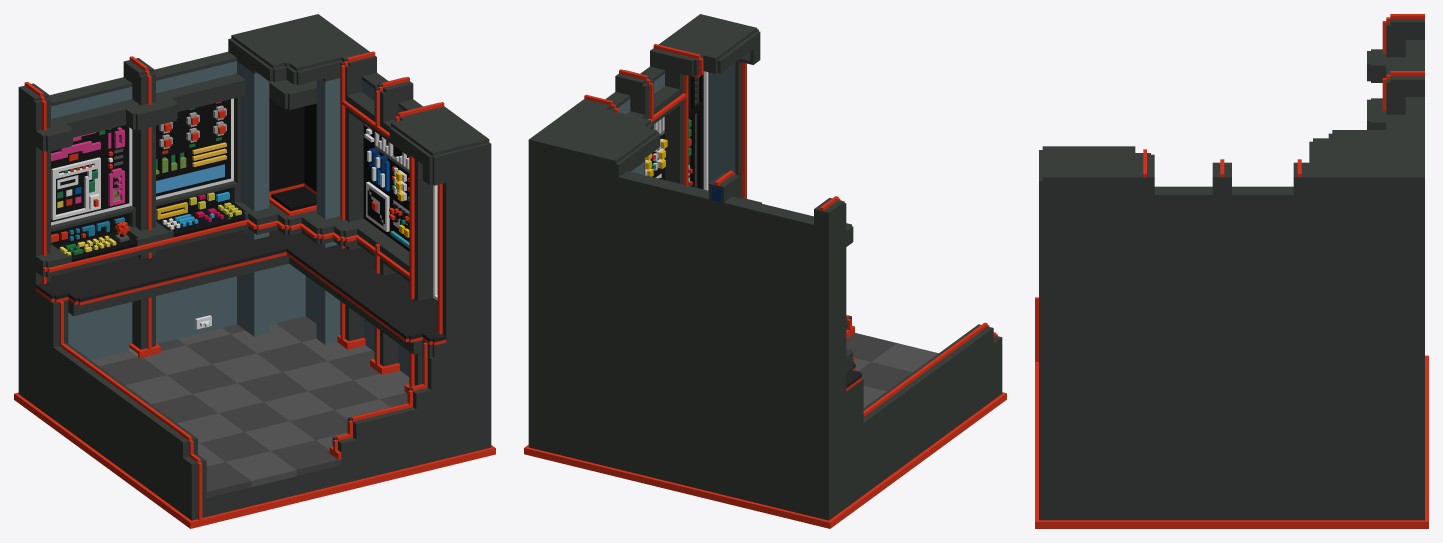
The model's file is Room_0_1.obj.
3 views of the same model, side by side, from view 1: azimuth 30°, elevation 25°; view 2: azimuth 150°, elevation 25°; view 3: azimuth 270°, elevation 25° (orthographic). The views are drawn at different scales.
Size of the model in its own units: 102 by 101 by 102.
